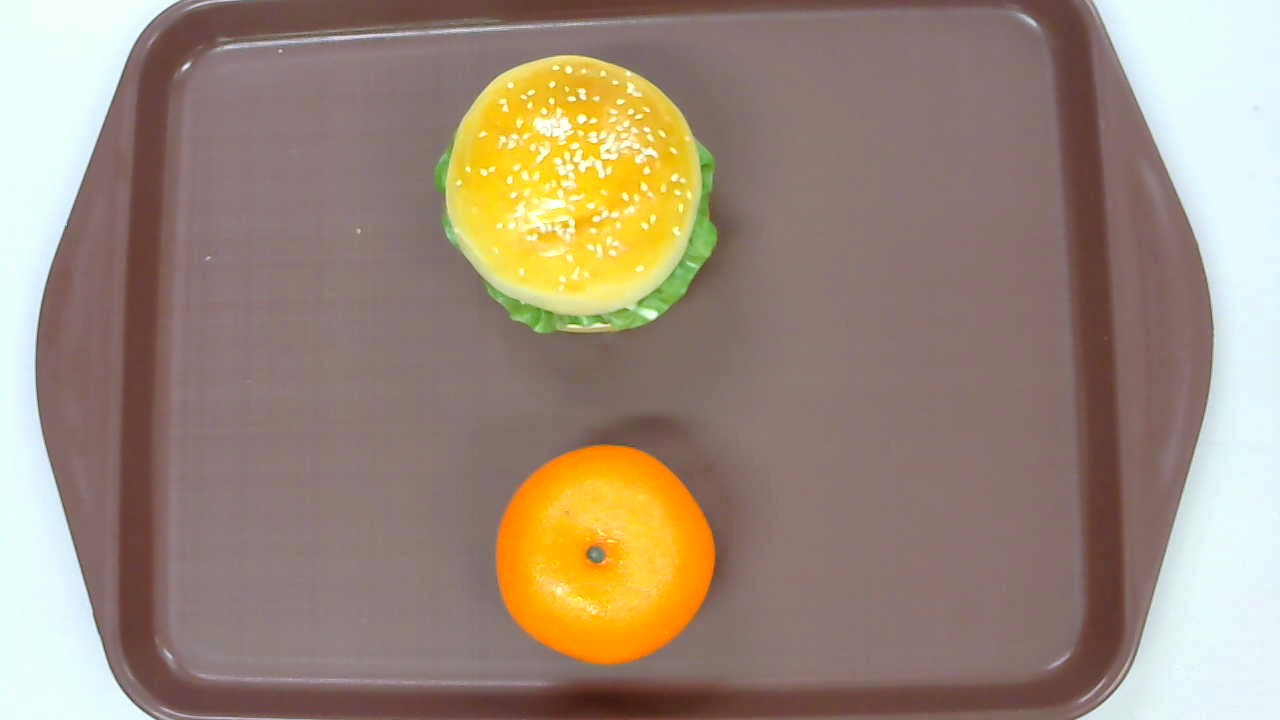hamburger: (432, 53, 720, 336)
orange: (494, 443, 716, 670)
